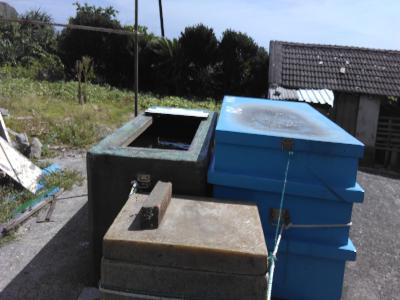box: (84, 104, 216, 214), (216, 94, 366, 190)
